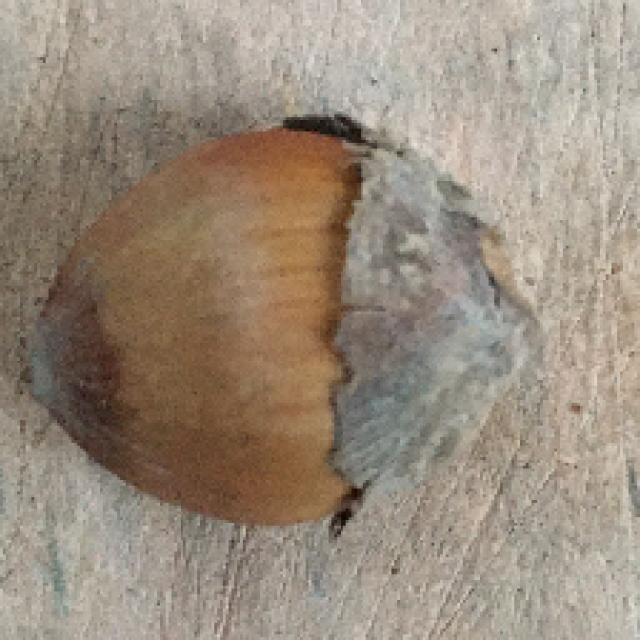damagedHazelnut: (24, 123, 537, 532)
